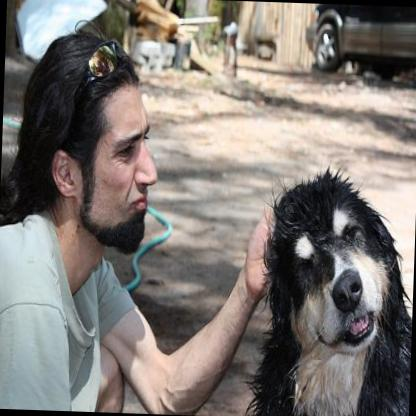Tibetan_mastiff: (238, 164, 416, 416)
